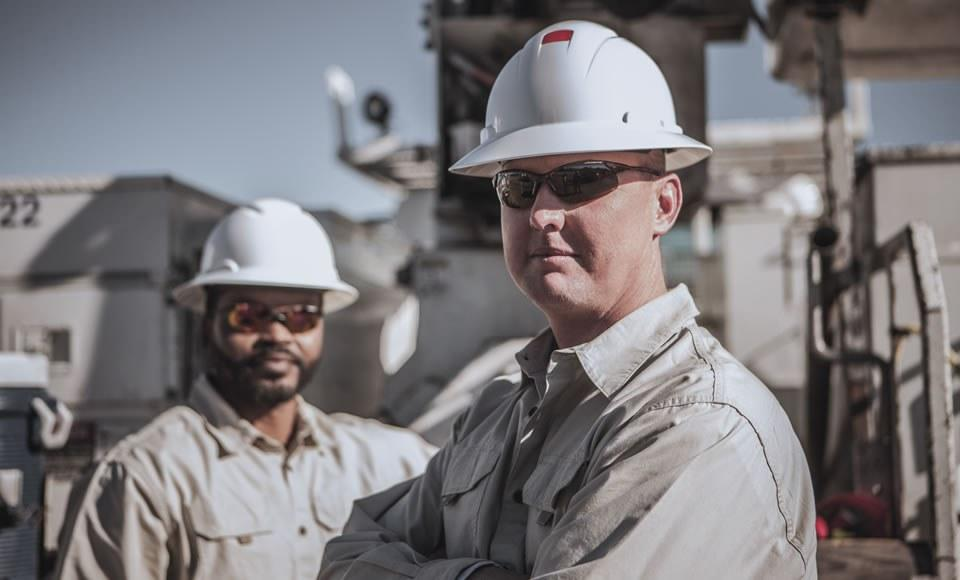helmet: (448, 19, 714, 183), (173, 197, 363, 321)
